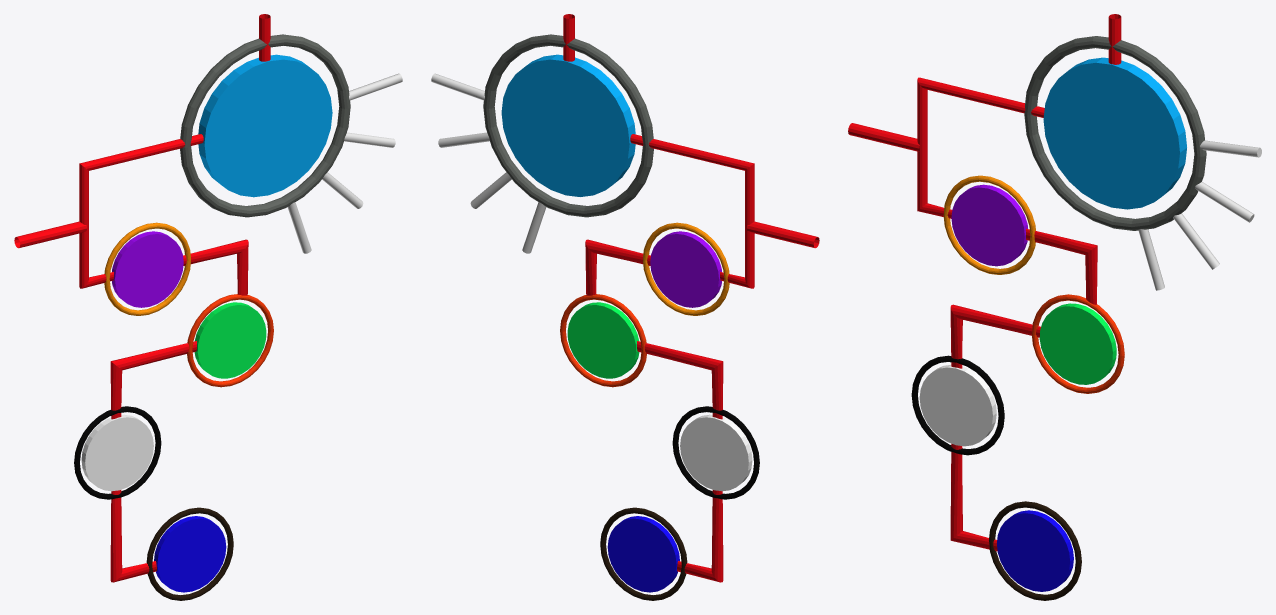
File: 4 vite.FBX
The picture shows the model from 3 angles, left to right: view 1: azimuth 30°, elevation 25°; view 2: azimuth 150°, elevation 25°; view 3: azimuth 330°, elevation 25°; orthographic projection. The views are drawn at different scales.
Parts seen in each view (by area): view 1: Cerchio Vita, Struttura, Object001, PowerUp_04, PowerUp_01, PowerUp_02, PowerUp_03, Cylinder001, Anello_04, Anello_01, Anello_02, Anello_03; view 2: Cerchio Vita, Struttura, Object001, PowerUp_04, PowerUp_01, PowerUp_02, PowerUp_03, Cylinder001, Anello_04, Anello_01, Anello_02, Anello_03; view 3: Cerchio Vita, Struttura, Object001, PowerUp_02, PowerUp_04, PowerUp_03, PowerUp_01, Cylinder001, Anello_04, Anello_01, Anello_03, Anello_02.
Part boxes in pixels (x1,y1,x2,y2): Cerchio Vita: (198,54,332,197); Struttura: (14,14,270,582); Object001: (180,34,350,217); PowerUp_04: (154,516,226,592); PowerUp_01: (112,231,183,307); PowerUp_02: (194,302,266,378); PowerUp_03: (81,414,153,491); Cylinder001: (287,73,402,253); Anello_04: (146,507,233,600); Anello_01: (104,222,190,315); Anello_02: (187,294,273,387); Anello_03: (74,406,161,499); Cerchio Vita: (501,54,635,196); Struttura: (563,14,819,582); Object001: (483,34,653,217); PowerUp_04: (607,516,679,592); PowerUp_01: (650,231,721,307); PowerUp_02: (567,302,639,378); PowerUp_03: (680,414,752,491); Cylinder001: (431,73,546,253); Anello_04: (600,507,687,600); Anello_01: (643,222,729,315); Anello_02: (560,294,646,387); Anello_03: (672,406,759,499); Cerchio Vita: (1043,57,1186,209); Struttura: (848,14,1121,551); Object001: (1024,36,1206,230); PowerUp_02: (1039,303,1116,384); PowerUp_04: (996,510,1073,591); PowerUp_03: (919,365,996,446); PowerUp_01: (951,184,1027,266); Cylinder001: (1138,140,1261,290); Anello_04: (989,501,1081,600); Anello_01: (943,175,1035,274); Anello_03: (911,355,1004,455); Anello_02: (1031,294,1124,393).
Bounding box in the file's own units: 144 × 203 × 4.37.
